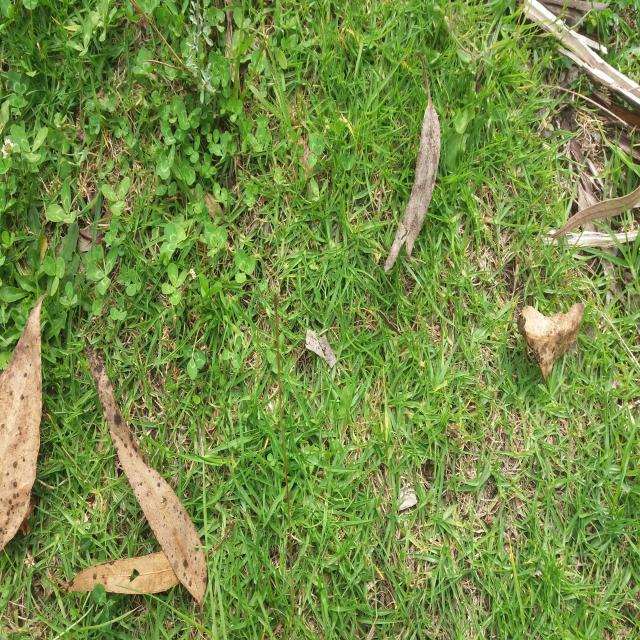Four Leaf Clover: (162, 262, 187, 305), (588, 349, 614, 388)
